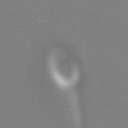normal: (61, 88, 87, 128)
